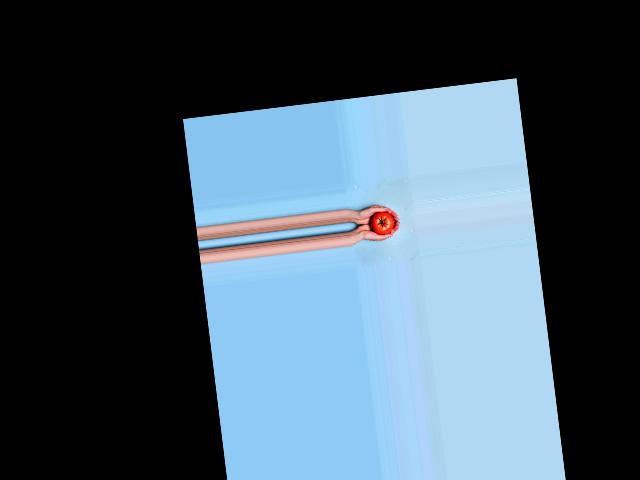tomato: (369, 209, 395, 235)
